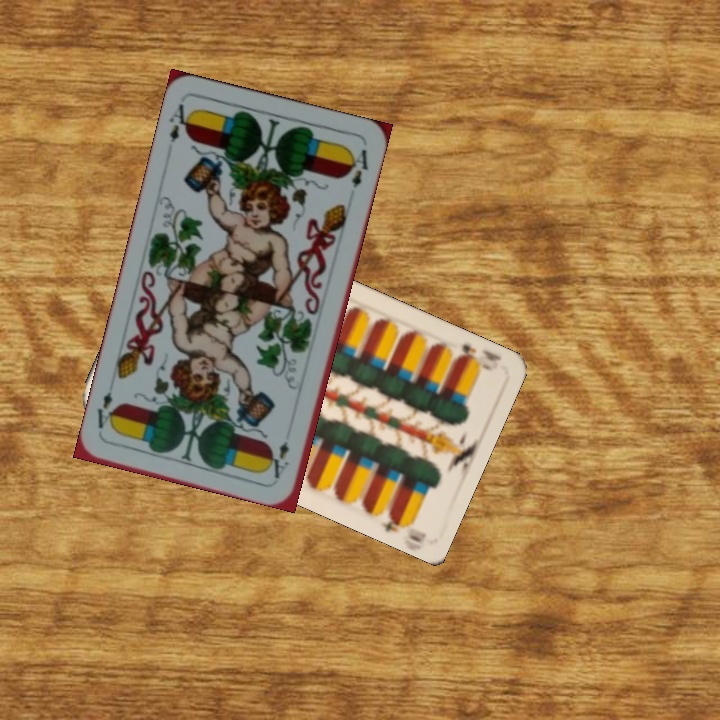E10: (450, 340, 504, 374)
EA: (165, 99, 196, 146), (270, 437, 292, 482)
